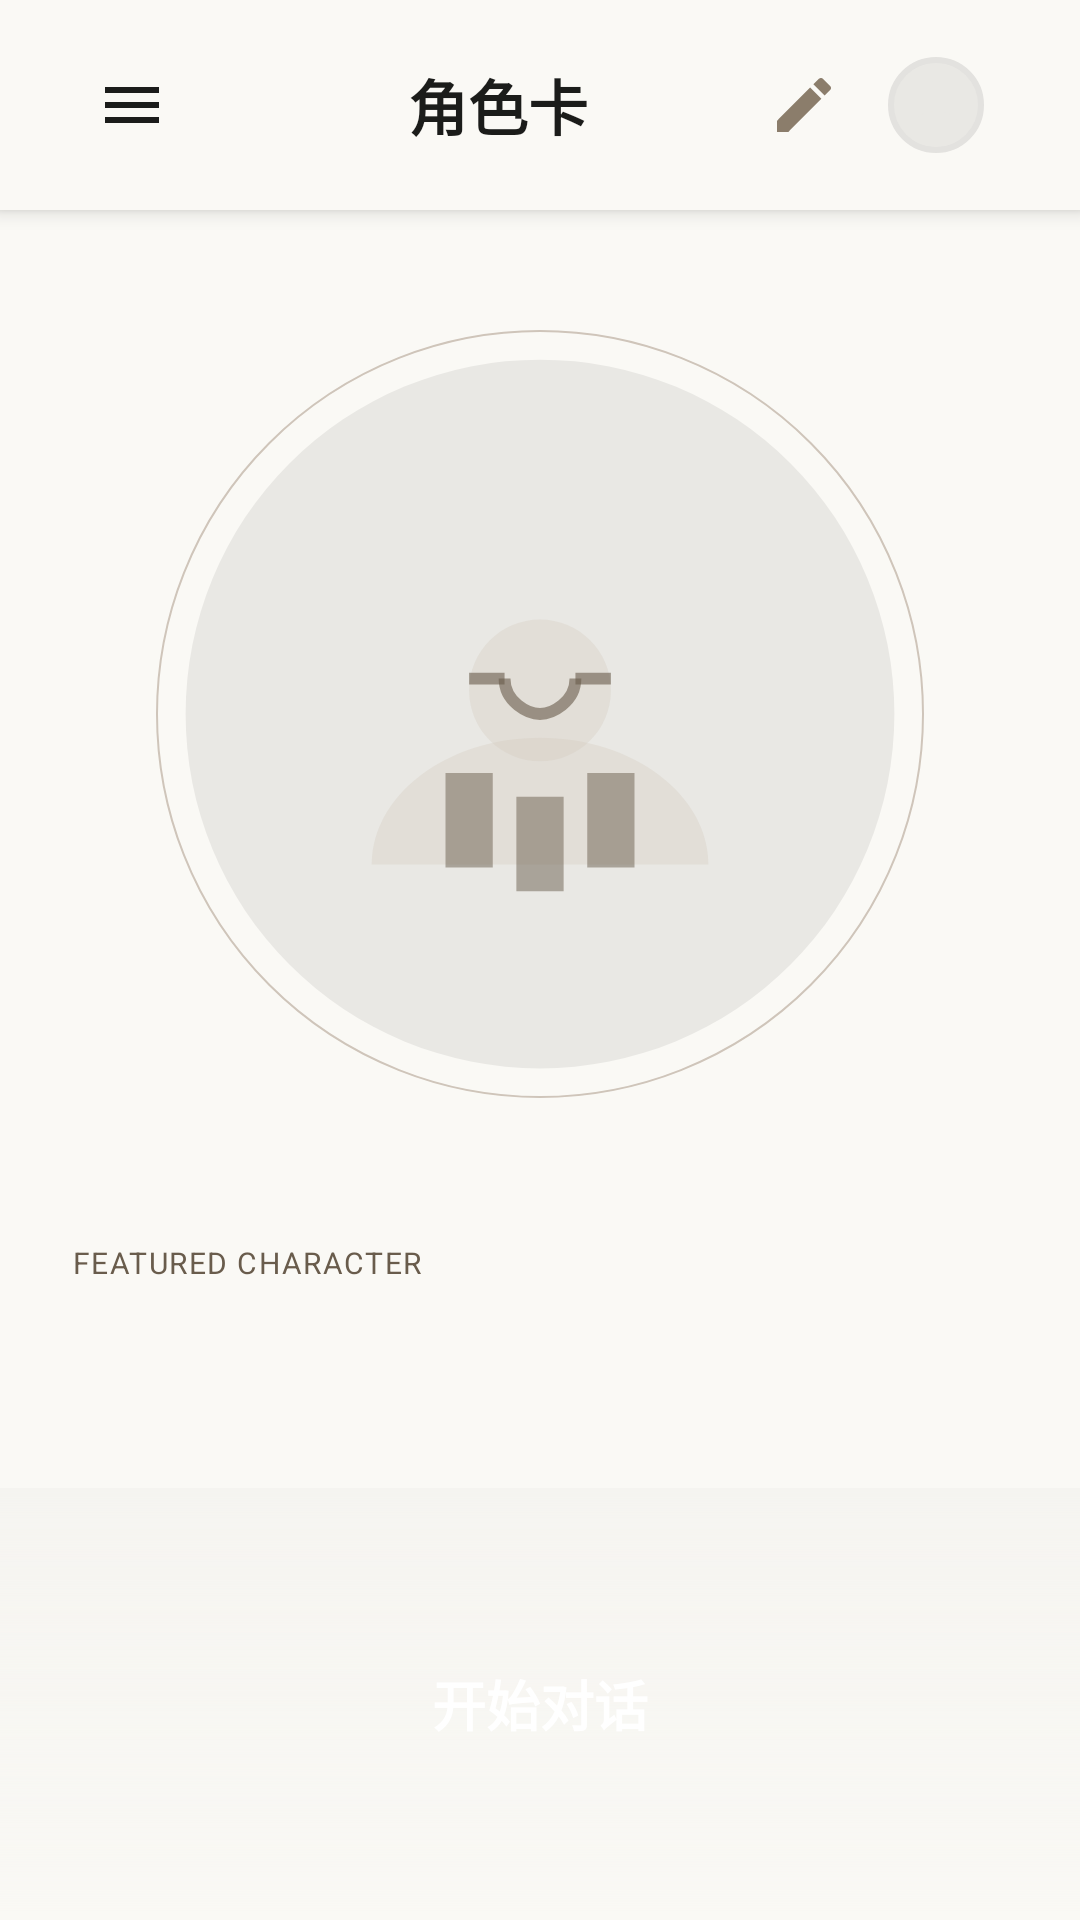

Icon click points for this 1080*1920 phone screenshot, format [x,y]:
Menu: [132,105]
编辑角色: [804,105]
